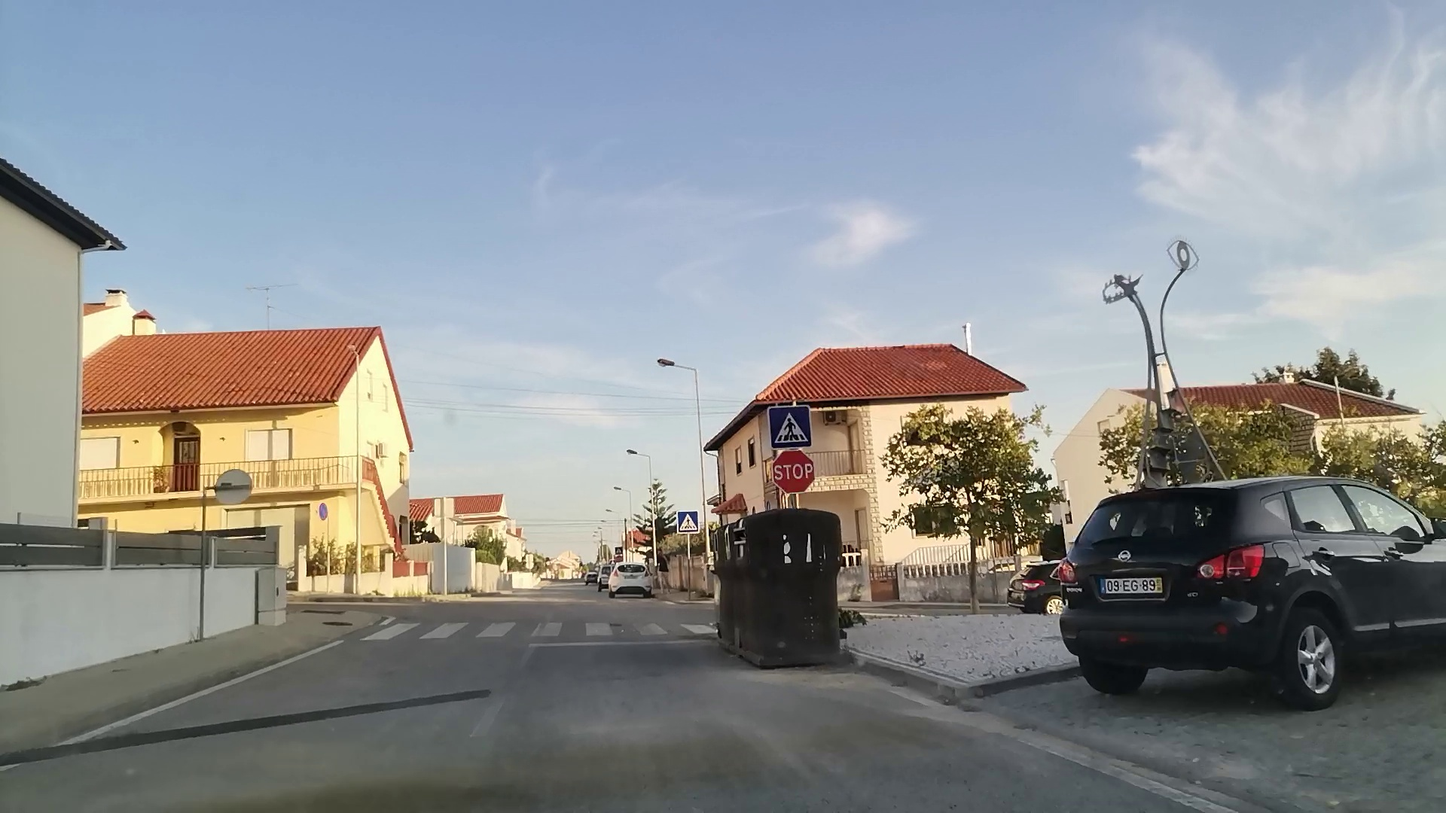Stairs: (360, 616, 717, 641)
